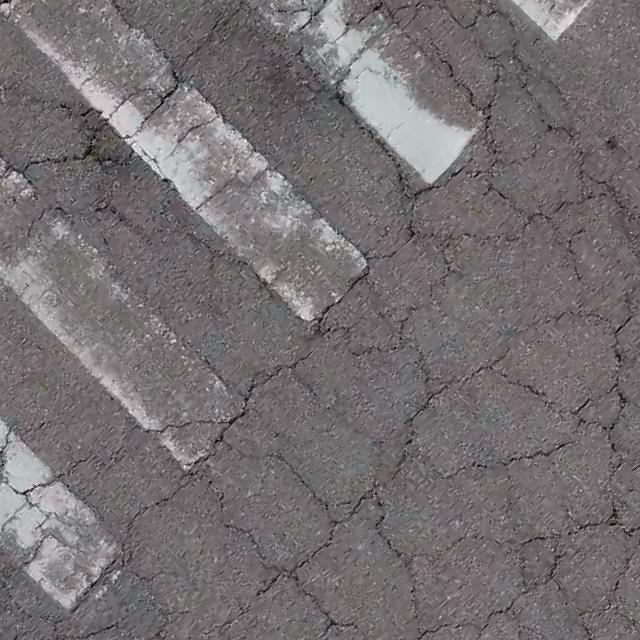GRIETA: (1, 79, 91, 129), (111, 2, 169, 59)
PIEL DE COCODRILO: (0, 0, 639, 639)
